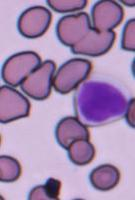L: (74, 78, 131, 127)
